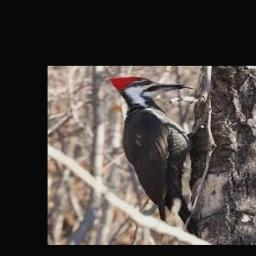Woodpecker: (110, 77, 195, 237)
